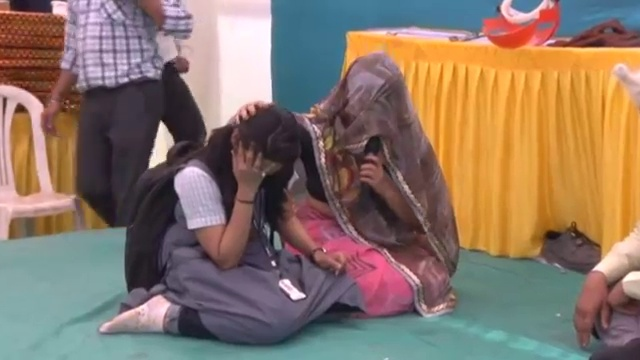helmet_off: (322, 47, 409, 158), (223, 104, 300, 195)
person: (99, 100, 366, 345), (273, 52, 464, 312), (48, 0, 163, 223), (570, 222, 640, 360), (148, 4, 205, 151)
